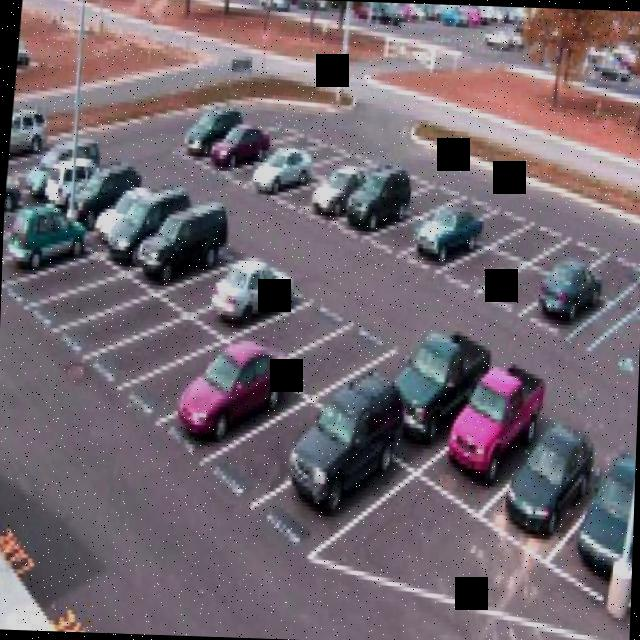car: (267, 400, 397, 557), (496, 399, 598, 547), (171, 339, 288, 467), (432, 368, 540, 504), (378, 319, 482, 454), (552, 448, 636, 600), (136, 198, 232, 284), (205, 246, 296, 336), (1, 212, 88, 298), (103, 177, 186, 263), (530, 260, 598, 338), (81, 165, 152, 234), (406, 214, 470, 280), (39, 142, 101, 208), (62, 153, 122, 221), (207, 115, 267, 180), (340, 184, 399, 242), (250, 147, 310, 204), (300, 180, 354, 240), (24, 138, 78, 194), (181, 109, 231, 161)
free: (216, 379, 334, 512), (92, 284, 218, 406), (132, 316, 236, 451), (49, 264, 172, 369), (321, 316, 426, 428), (31, 254, 141, 351), (290, 294, 388, 394), (7, 236, 113, 321), (243, 275, 333, 366), (171, 228, 254, 311), (497, 194, 577, 270), (540, 215, 604, 284), (436, 242, 512, 296), (466, 196, 532, 257), (434, 181, 506, 235), (404, 172, 476, 226), (372, 203, 431, 264), (581, 242, 640, 303), (228, 132, 287, 186), (491, 262, 548, 314), (598, 314, 640, 382), (317, 141, 375, 190), (275, 112, 329, 164), (381, 162, 441, 207), (272, 165, 320, 217), (252, 107, 304, 155), (297, 131, 346, 175)
